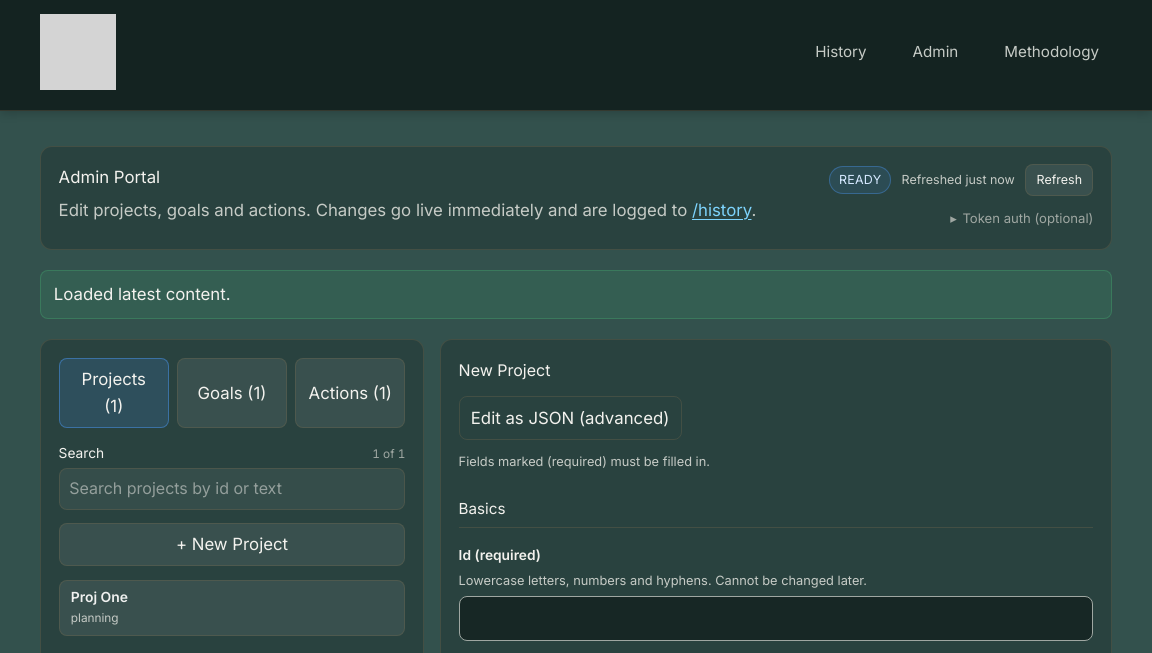
Test case: saving › shows the message from a rate-limit response
Click the tab "Goals (1)" at (232, 393), box [177,358,287,428]
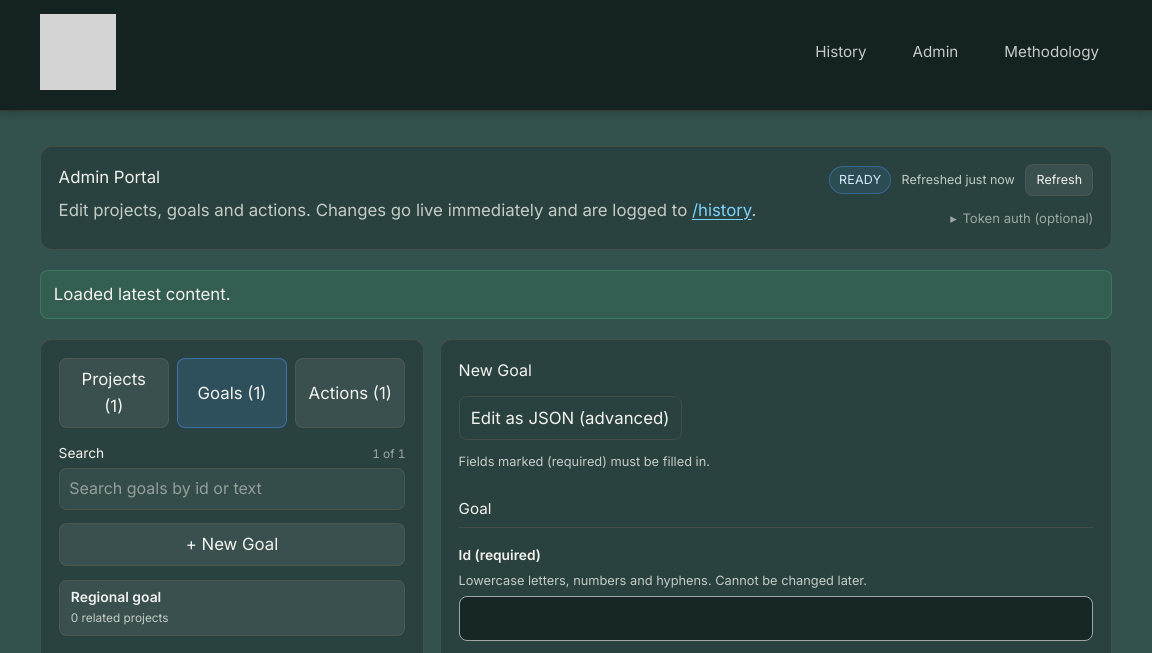
Click the button "Regional goal 0 related projects" at (116, 597), box [59,580,405,636]
(page scrolled)
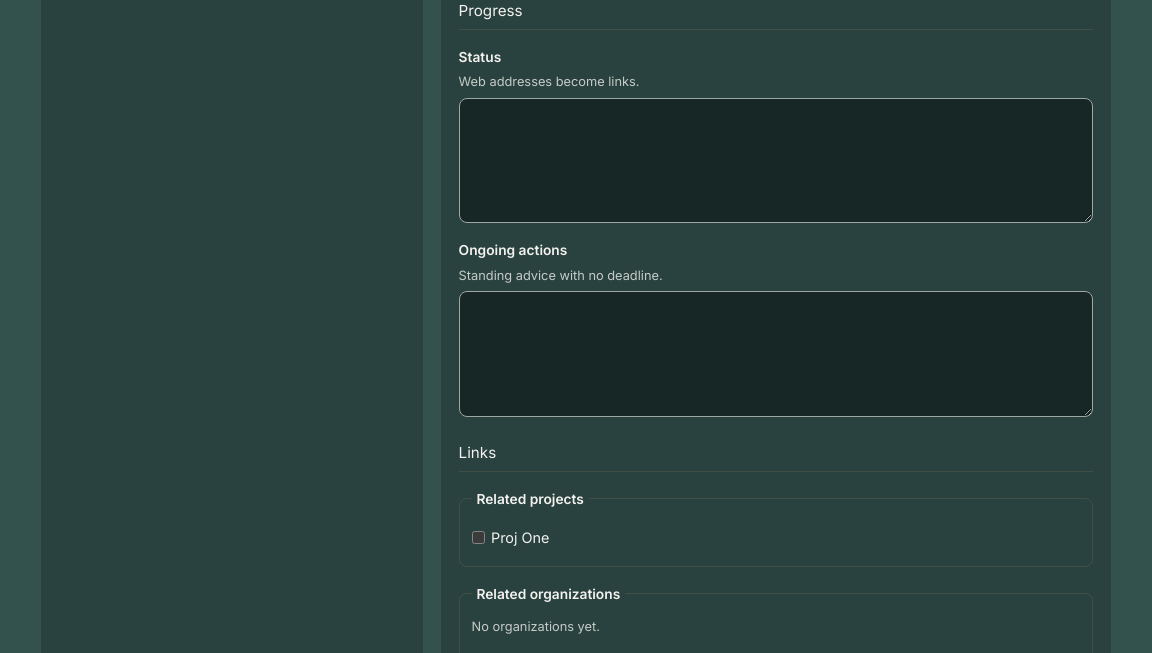
Type "Mine" into the text box labelled "Ongoing actions" at (776, 354), box [459,291,1093,417]
(page scrolled)
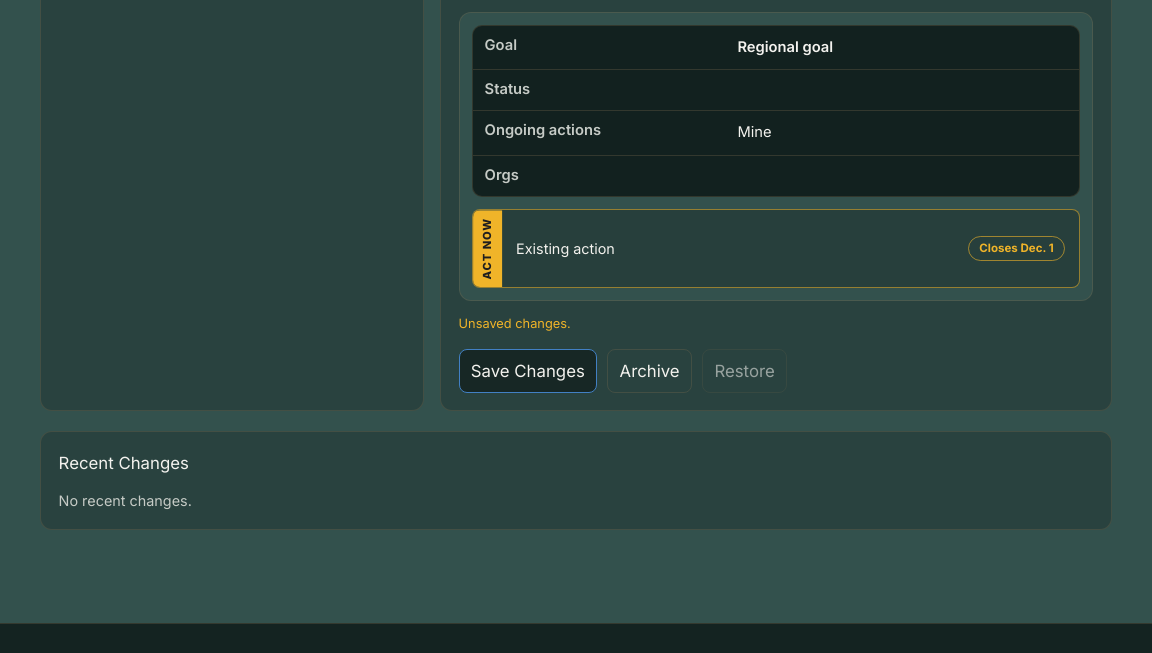
Click the button "Save Changes" at (528, 371), box [459,349,597,393]
(page scrolled)
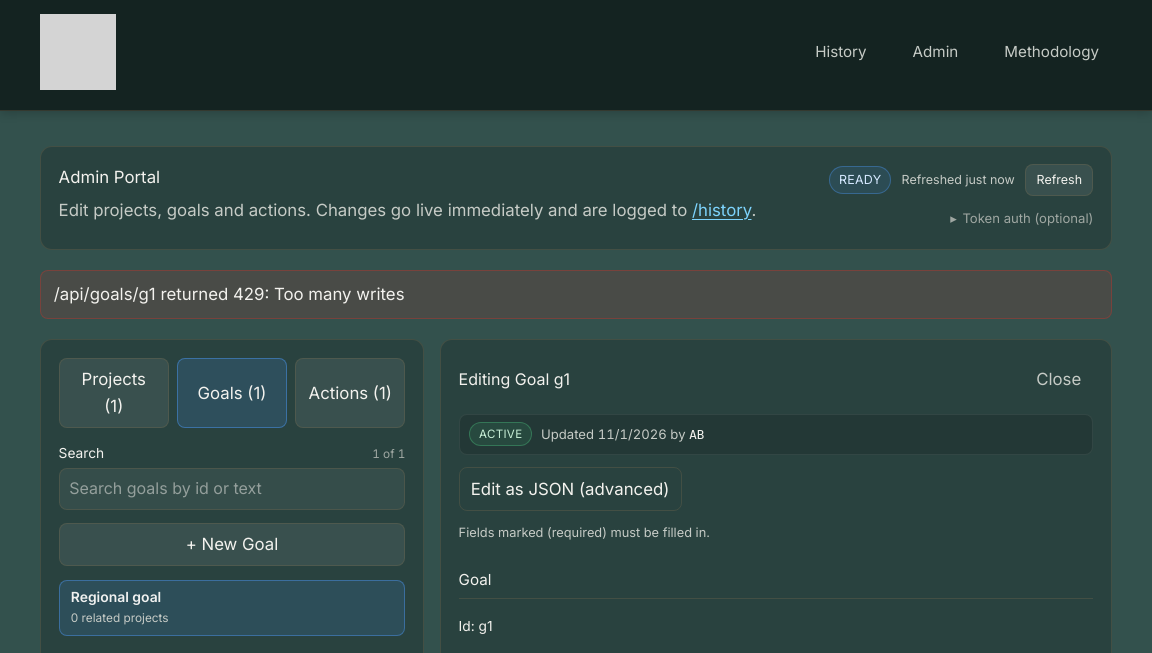
Now the message reads "/api/goals/g1 returned 429: Too many writes", box [54,284,404,304]
